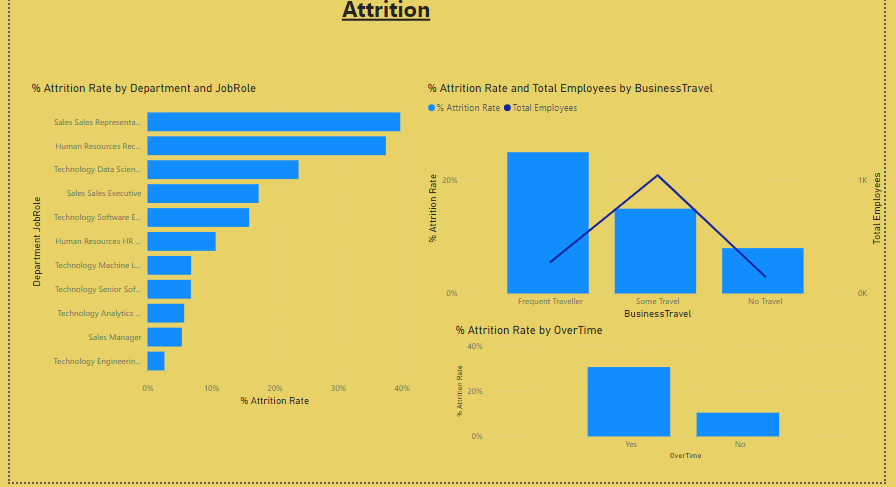

Layout of this report page (visuals, bound fields, positions):
{"tool":"powerbi","page":{"name":"Attrition","canvas":[1280,720],"ordinal":1},"visuals":[{"type":"textbox","box":[10.1,0,1080.1,67.2],"z":0},{"type":"clusteredBarChart","fields":{"Category":["Employee.Department","Employee.JobRole"],"Y":["_Measures.% Attrition Rate"]},"box":[26.9,132.7,564.4,480.4],"z":1000},{"type":"lineStackedColumnComboChart","fields":{"Category":["Employee.BusinessTravel"],"Y":["_Measures.% Attrition Rate"],"Y2":["_Measures.Total Employees"]},"box":[605.9,133.2,674.6,354.1],"z":2000},{"type":"clusteredColumnChart","fields":{"Category":["Employee.OverTime"],"Y":["_Measures.% Attrition Rate"]},"box":[646.8,487.3,633.7,204.9],"z":3000}]}

Visuals, with their boxes on the page's 1280x720 design canvas (x1, y1, x2, y2). These are canvas units, not pixel positions in the 896x487 screenshot, which may show the page scaled, cropped or inside an application window:
textbox: crop(10, 0, 1090, 67)
clusteredBarChart - Employee.Department x Employee.JobRole: crop(27, 133, 591, 613)
lineStackedColumnComboChart - Employee.BusinessTravel x _Measures.% Attrition Rate: crop(606, 133, 1280, 487)
clusteredColumnChart - Employee.OverTime x _Measures.% Attrition Rate: crop(647, 487, 1280, 692)
